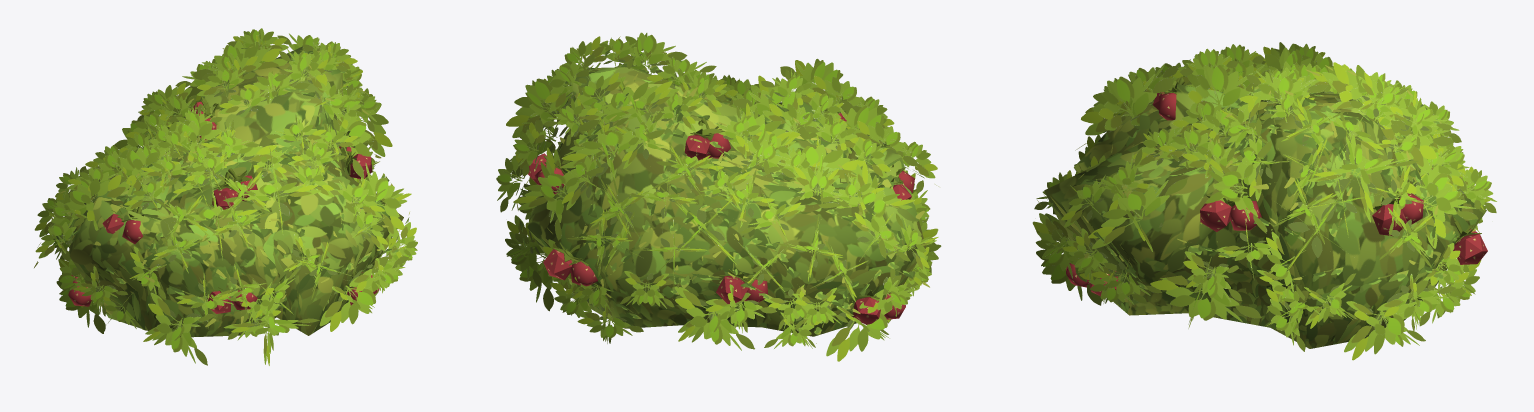
Rendered from bush.fbx.
3 renders of one model, left to right at view 1: azimuth 30°, elevation 25°; view 2: azimuth 150°, elevation 25°; view 3: azimuth 270°, elevation 25°, orthographic. The views are drawn at different scales.
Visible parts, largest first — view 1: leafs1, bush1, berry3 (×2), berry2; view 2: leafs1, bush1, berry3 (×4), berry2 (×2); view 3: leafs1, bush1, berry3 (×3), berry2 (×3).
Part boxes in pixels (box(x1,y1,x2,y2)): leafs1: box(34, 28, 417, 365); bush1: box(67, 46, 403, 337); berry3 (×2): box(212, 151, 372, 209); berry2: box(121, 207, 143, 244); leafs1: box(496, 32, 941, 361); bush1: box(527, 67, 926, 336); berry3 (×4): box(543, 121, 883, 324); berry2 (×2): box(569, 117, 730, 286); leafs1: box(1032, 42, 1496, 360); bush1: box(1044, 84, 1486, 348); berry3 (×3): box(1200, 195, 1487, 264); berry2 (×3): box(1159, 76, 1423, 230).
Size of the model in its own units: 7.41 by 4.74 by 7.
2 materials, 2 textured.
